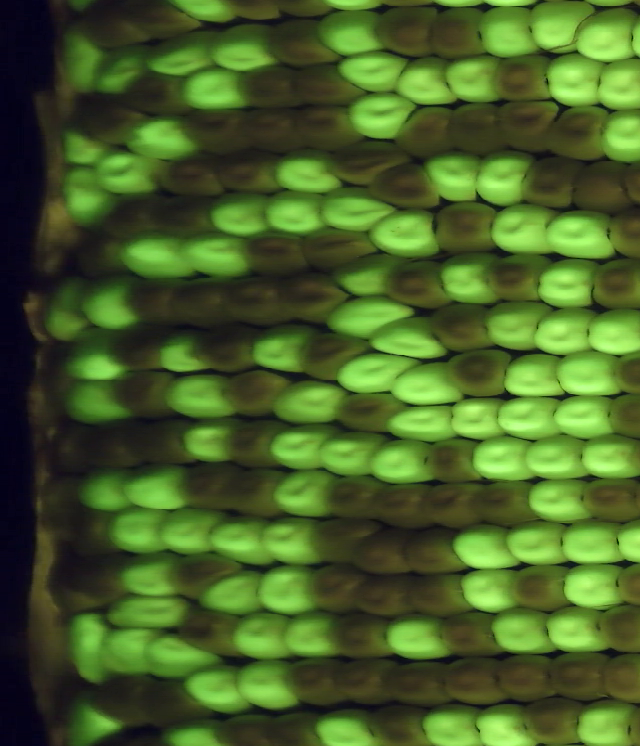fluorescent: (58, 605, 127, 692), (35, 272, 104, 350), (178, 658, 260, 723), (138, 630, 229, 688), (233, 653, 314, 718), (83, 144, 175, 201), (314, 180, 406, 237), (114, 226, 202, 285), (169, 227, 260, 284), (363, 203, 446, 265), (142, 25, 231, 82), (320, 295, 423, 344), (268, 375, 359, 430), (480, 296, 559, 359), (116, 455, 195, 518), (54, 161, 123, 233), (204, 17, 285, 78), (363, 311, 454, 365), (160, 365, 243, 424), (324, 248, 413, 303), (342, 85, 422, 146), (153, 500, 233, 561), (484, 199, 561, 262), (252, 558, 330, 620), (244, 319, 330, 375), (383, 354, 469, 410), (173, 61, 256, 119), (465, 431, 548, 489), (203, 510, 283, 570), (98, 588, 200, 635), (57, 18, 113, 103), (435, 249, 513, 310), (88, 36, 159, 103), (331, 348, 422, 400), (309, 427, 395, 482), (266, 463, 343, 524), (473, 143, 541, 212), (264, 419, 346, 476), (363, 433, 445, 490), (533, 253, 608, 315), (446, 519, 529, 575), (75, 269, 143, 337), (543, 46, 610, 115), (542, 206, 619, 266), (381, 607, 458, 667), (59, 330, 138, 388), (526, 302, 605, 360), (120, 110, 203, 165), (98, 621, 174, 681), (569, 1, 640, 65), (422, 142, 488, 210), (269, 144, 349, 200), (558, 559, 638, 615), (312, 5, 389, 63), (194, 563, 272, 620), (470, 5, 545, 64), (553, 345, 629, 403), (259, 185, 336, 242), (493, 390, 574, 444), (57, 376, 139, 429), (523, 1, 599, 58), (556, 515, 633, 571), (104, 501, 177, 560), (331, 47, 415, 98), (543, 602, 618, 659), (523, 473, 598, 530), (69, 463, 144, 520), (278, 603, 348, 664), (489, 604, 565, 660), (499, 515, 573, 572), (394, 51, 462, 113), (258, 510, 328, 570), (457, 562, 528, 621), (437, 51, 509, 109), (180, 412, 252, 470), (553, 387, 625, 444), (201, 187, 278, 240), (59, 687, 128, 746), (518, 430, 597, 481), (498, 348, 573, 401), (575, 427, 640, 488), (153, 324, 221, 378), (118, 547, 187, 600), (382, 400, 464, 444), (445, 392, 513, 445), (228, 607, 295, 659), (570, 697, 640, 746), (310, 701, 386, 746), (471, 697, 540, 746), (583, 304, 640, 362), (52, 122, 118, 171), (418, 697, 483, 746), (595, 104, 640, 171), (595, 55, 640, 114), (153, 716, 234, 746), (608, 510, 640, 568)
nonfluorescent: (68, 86, 153, 154), (38, 557, 128, 620), (323, 127, 414, 189), (293, 327, 383, 387), (161, 545, 249, 606), (273, 261, 356, 325), (298, 219, 387, 278), (118, 272, 197, 335), (431, 195, 507, 260), (214, 270, 296, 330), (568, 152, 638, 222), (322, 607, 402, 668), (489, 94, 564, 159), (221, 411, 297, 475), (424, 296, 501, 359), (83, 668, 165, 727), (538, 100, 611, 166), (133, 674, 219, 730), (397, 523, 477, 583), (380, 253, 456, 316), (165, 272, 241, 335), (215, 364, 299, 421), (155, 146, 234, 206), (174, 605, 253, 665), (138, 190, 229, 242), (190, 323, 273, 380), (328, 385, 411, 442), (263, 13, 343, 72), (238, 226, 318, 285), (327, 651, 407, 710), (420, 1, 496, 63), (369, 156, 447, 216), (290, 100, 372, 157), (123, 412, 203, 470), (172, 458, 248, 519), (221, 463, 293, 527), (306, 512, 388, 568), (378, 655, 460, 711), (287, 57, 372, 111), (515, 152, 590, 213), (180, 104, 260, 161), (544, 645, 618, 706), (116, 68, 198, 123), (440, 650, 515, 710), (443, 345, 519, 404), (506, 560, 584, 617), (210, 145, 289, 201), (443, 97, 513, 160), (368, 4, 444, 62), (104, 319, 177, 379), (490, 651, 568, 707), (394, 99, 460, 165), (320, 468, 395, 526), (98, 189, 178, 243), (104, 364, 176, 424), (348, 525, 420, 584), (280, 654, 352, 713), (238, 102, 311, 160), (73, 416, 146, 474), (42, 416, 106, 482), (403, 567, 477, 624), (484, 250, 554, 310), (350, 567, 423, 624), (436, 605, 510, 661), (74, 1, 149, 56), (471, 475, 542, 533), (68, 225, 140, 282), (305, 559, 372, 619), (368, 476, 436, 535), (418, 480, 493, 533), (493, 50, 558, 110), (359, 696, 436, 746), (233, 63, 308, 114), (117, 1, 202, 45), (422, 434, 488, 489), (44, 332, 87, 416), (519, 693, 586, 746), (587, 250, 640, 317), (67, 503, 128, 560), (578, 472, 640, 525), (38, 469, 92, 527), (593, 599, 640, 661), (597, 648, 640, 710), (207, 708, 275, 746), (262, 706, 325, 746), (601, 386, 640, 445), (606, 204, 640, 266), (604, 348, 640, 398)
